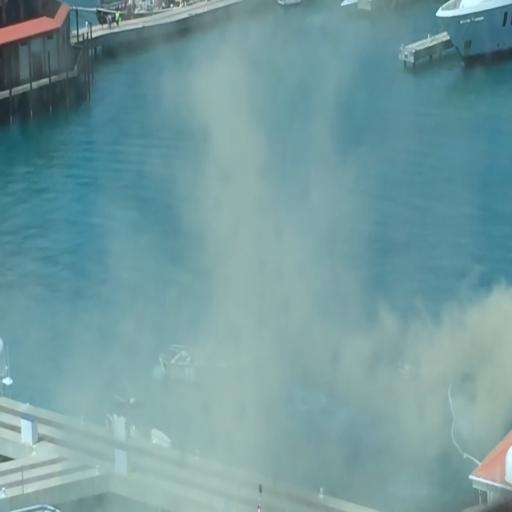smoke: (454, 286, 512, 438)
